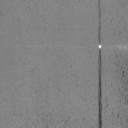surface scratch: (98, 0, 103, 128)
